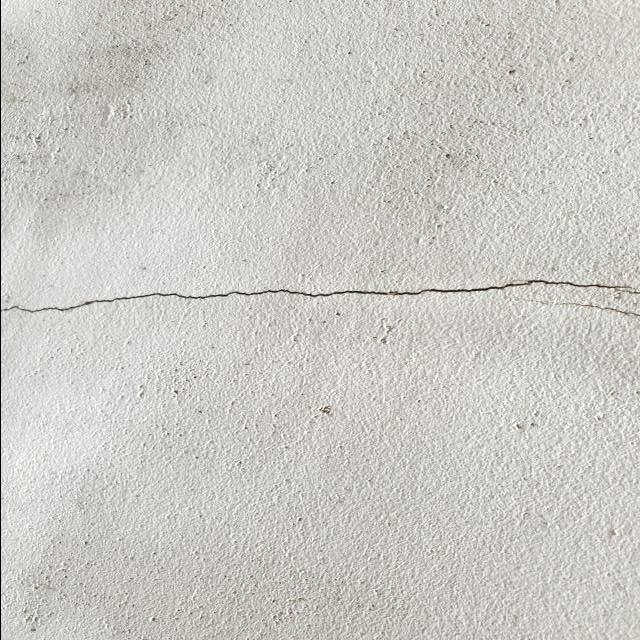SurfaceCrack: (0, 239, 639, 357)
